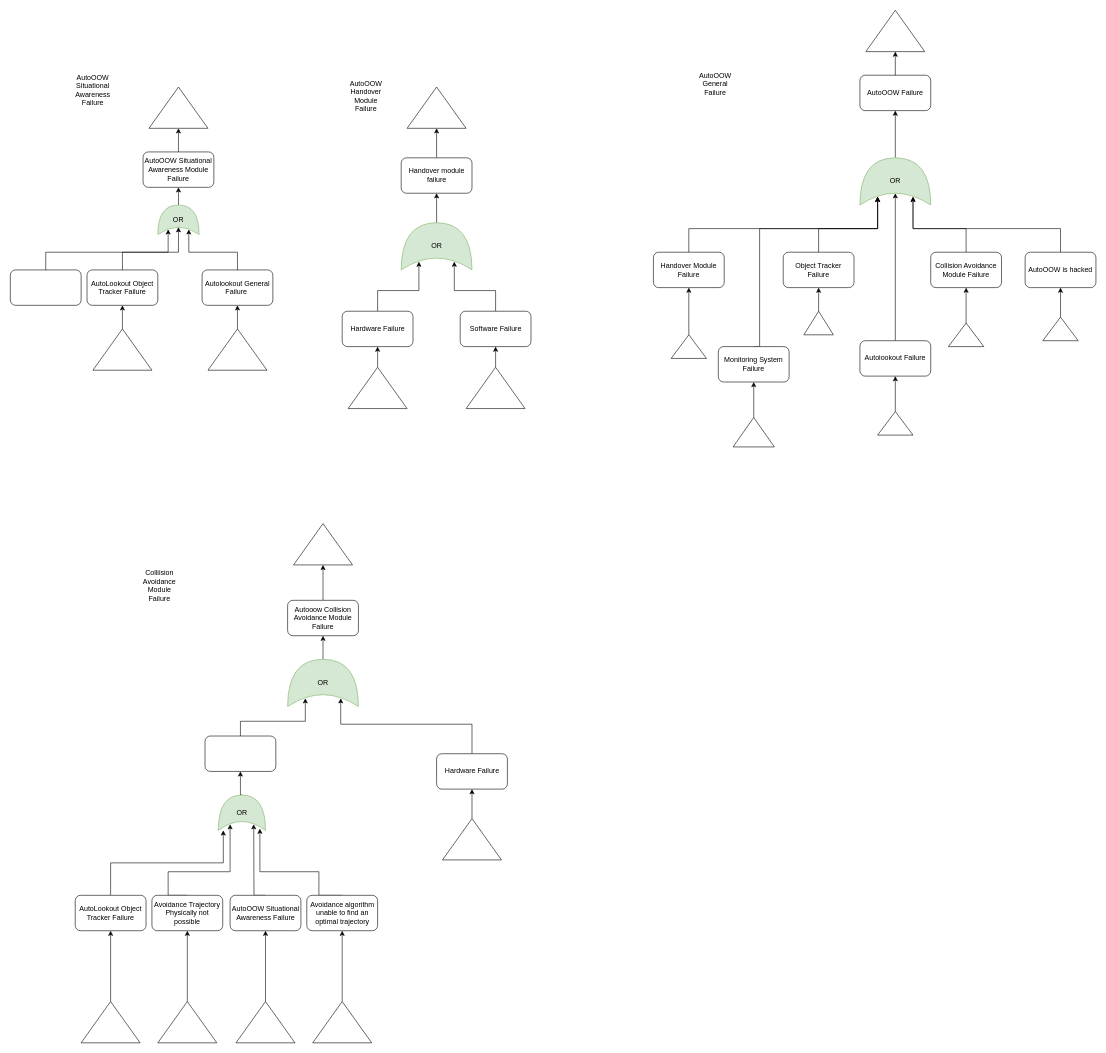
Image size: 1106x1053. Some labels were removed from this diagram. The shapes that lost their labels are listed below. From the top down, each one's centre as x and y in pixels, then its label:
At point 45,287: "Human Error".
At point 240,753: "Collision Avoidance Trajectory Decision Failure".
